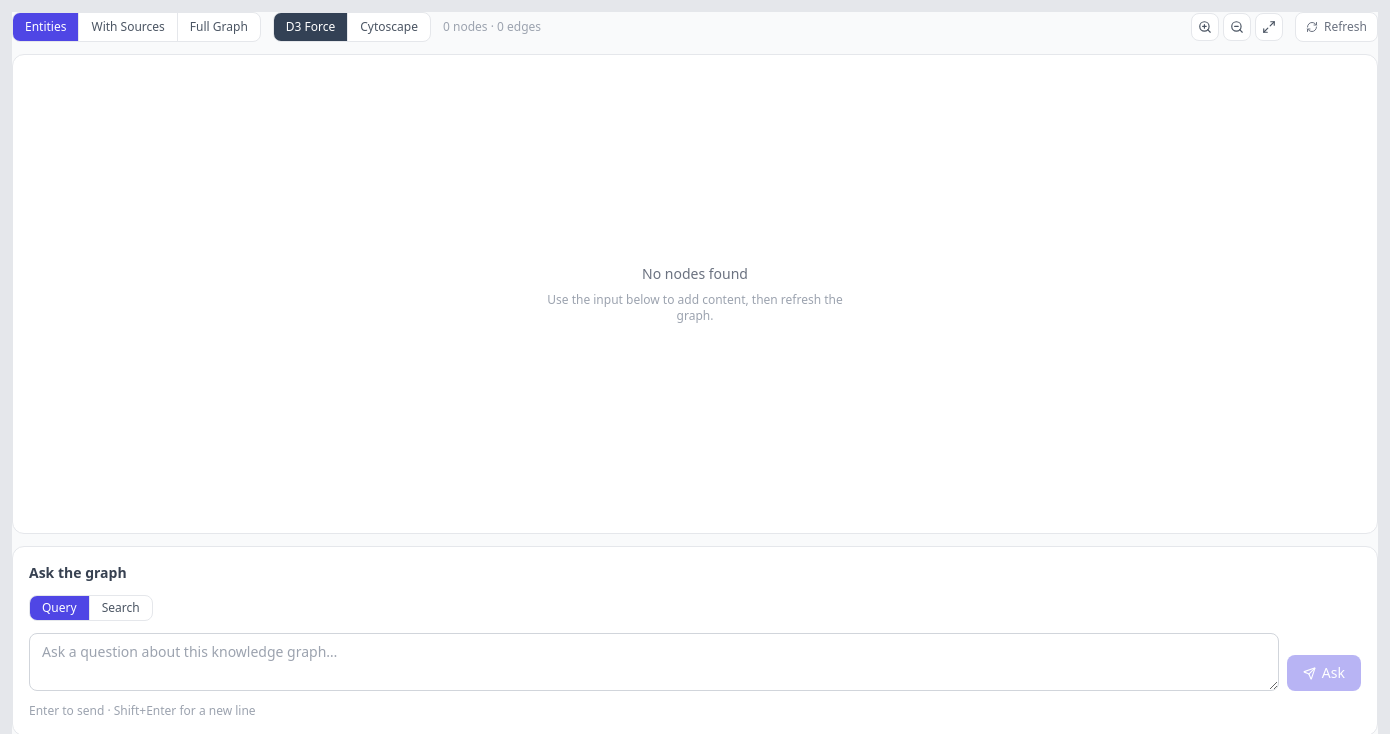
KGGraph search playground › shows the empty state for results: []
Click the button "Search" at (121, 608), box [90,596,152,620]
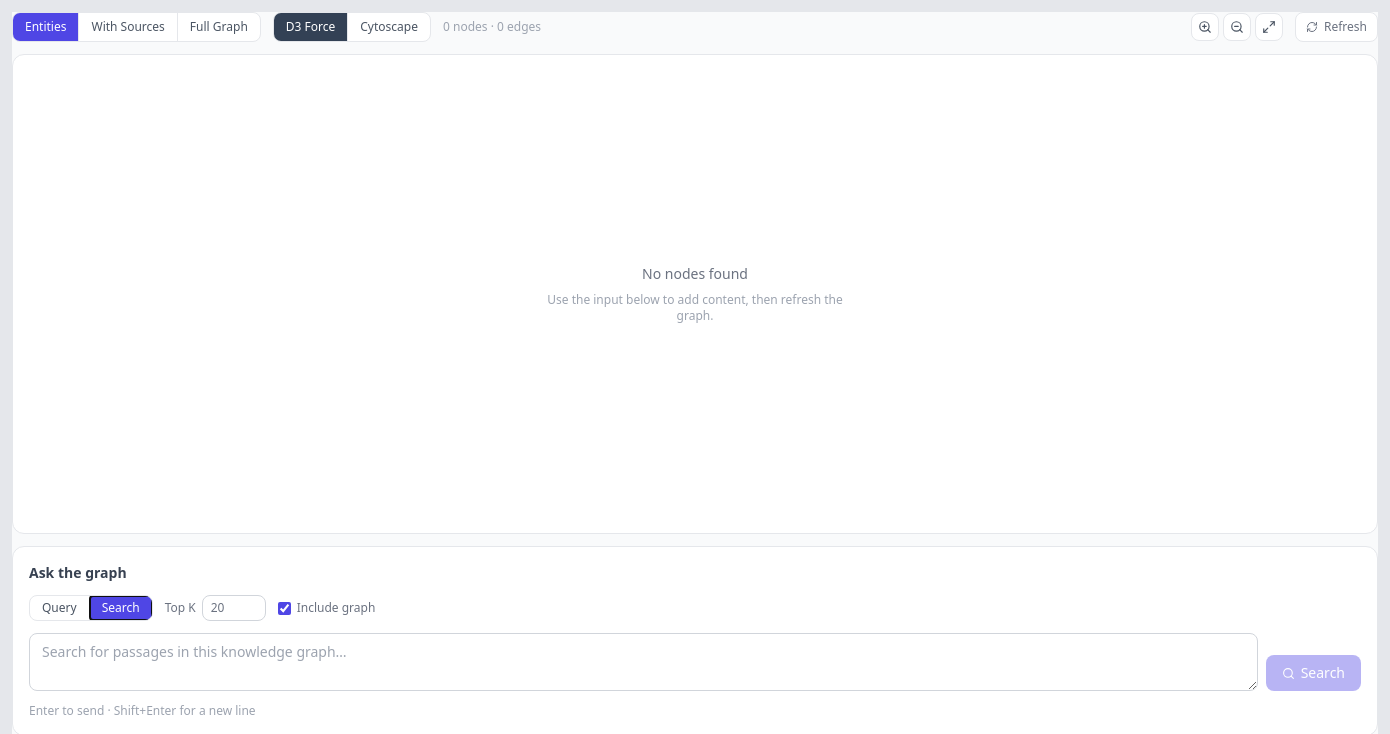
Type "nothing here" into the text box with placeholder "Search for passages in this knowledge graph…" at (643, 662), box [29,633,1258,691]
Then press Enter
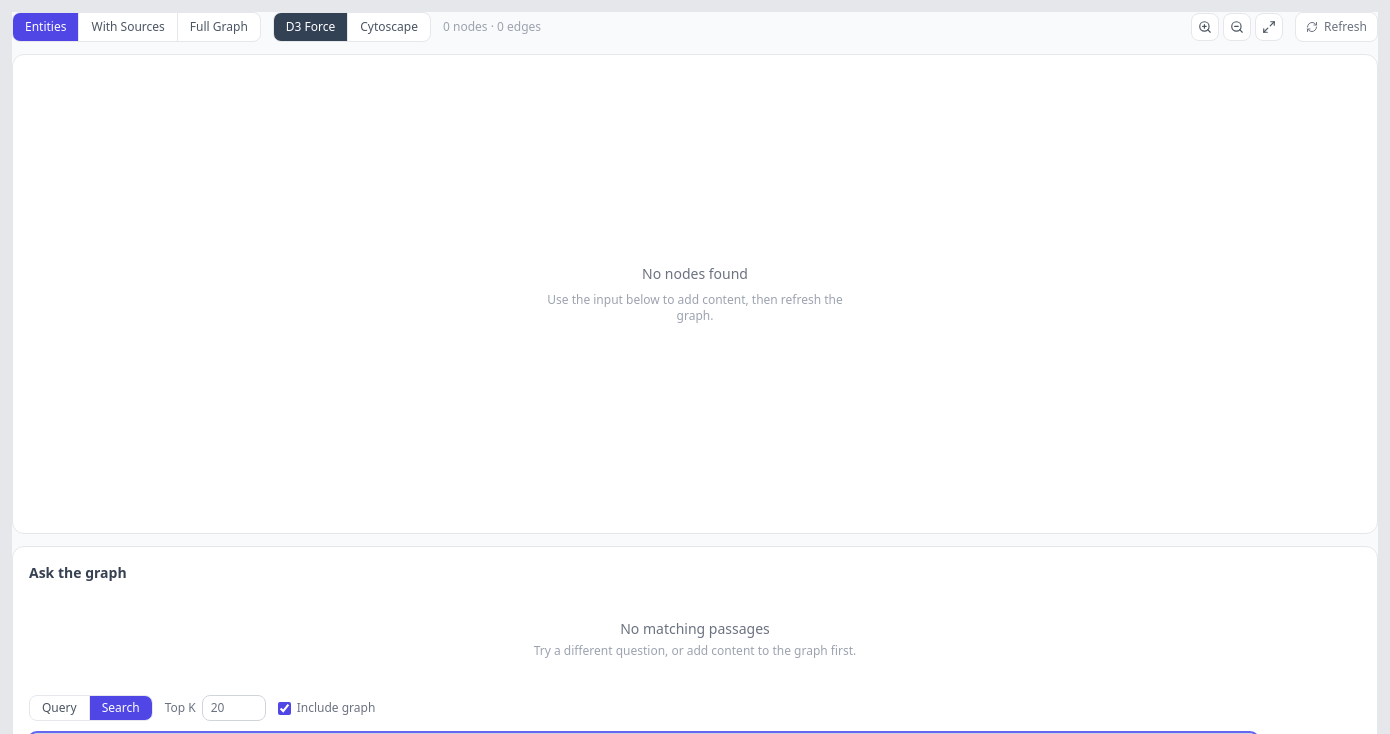
Check: the text "No matching passages" is shown, box [620,619,770,638]
